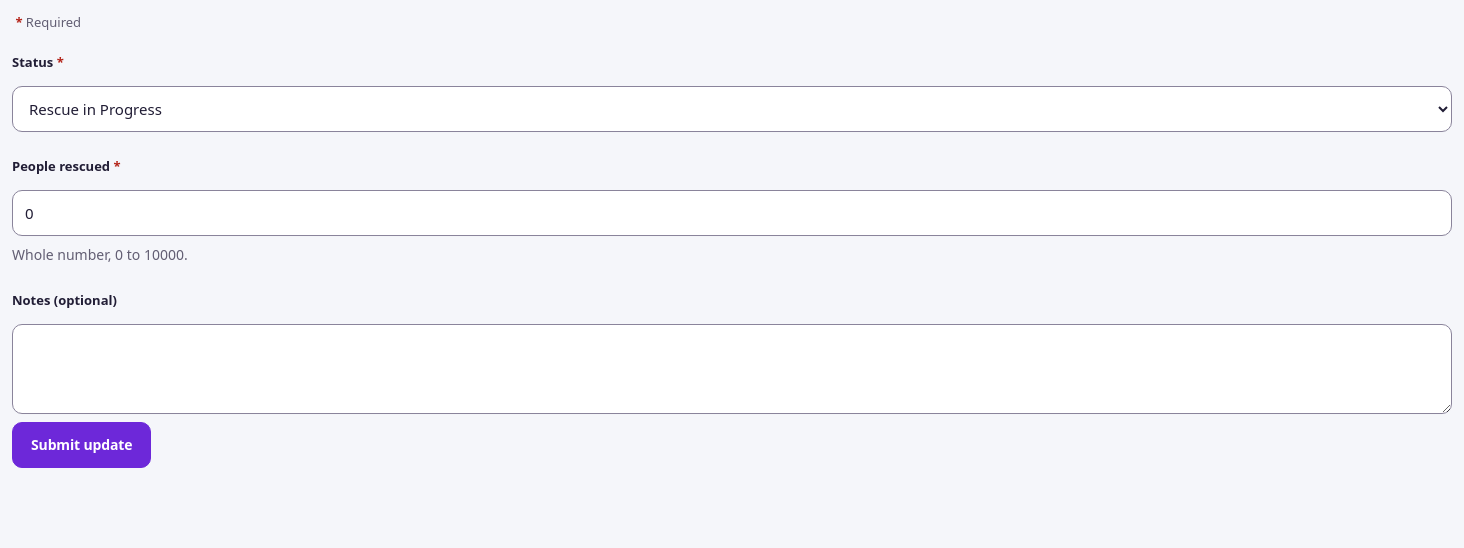
Scenario: OperationForm › a lost reply (network) says the update may be saved, keeps the entries, and does not blame the connection
This screenshot has width=1464, height=548.
Type "Family moved" into the text box labelled "Notes (optional)" at coordinates (732, 369), box [12, 324, 1452, 414]
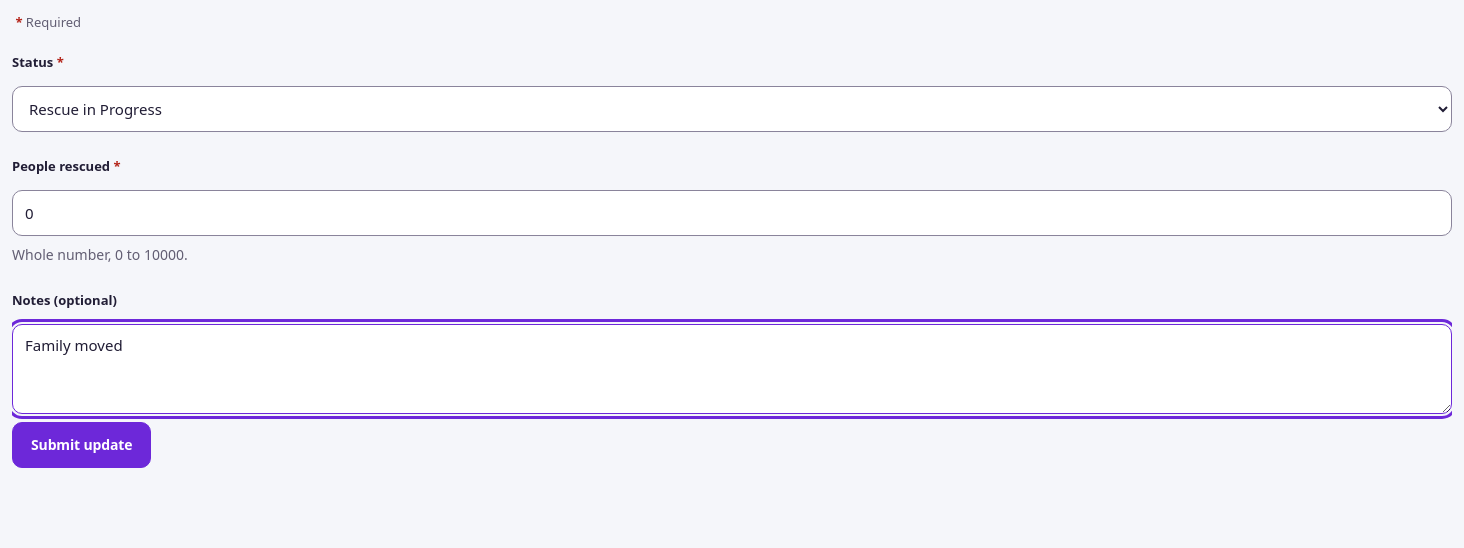
Click the button "Submit update" at coordinates (82, 445), box [12, 422, 151, 468]
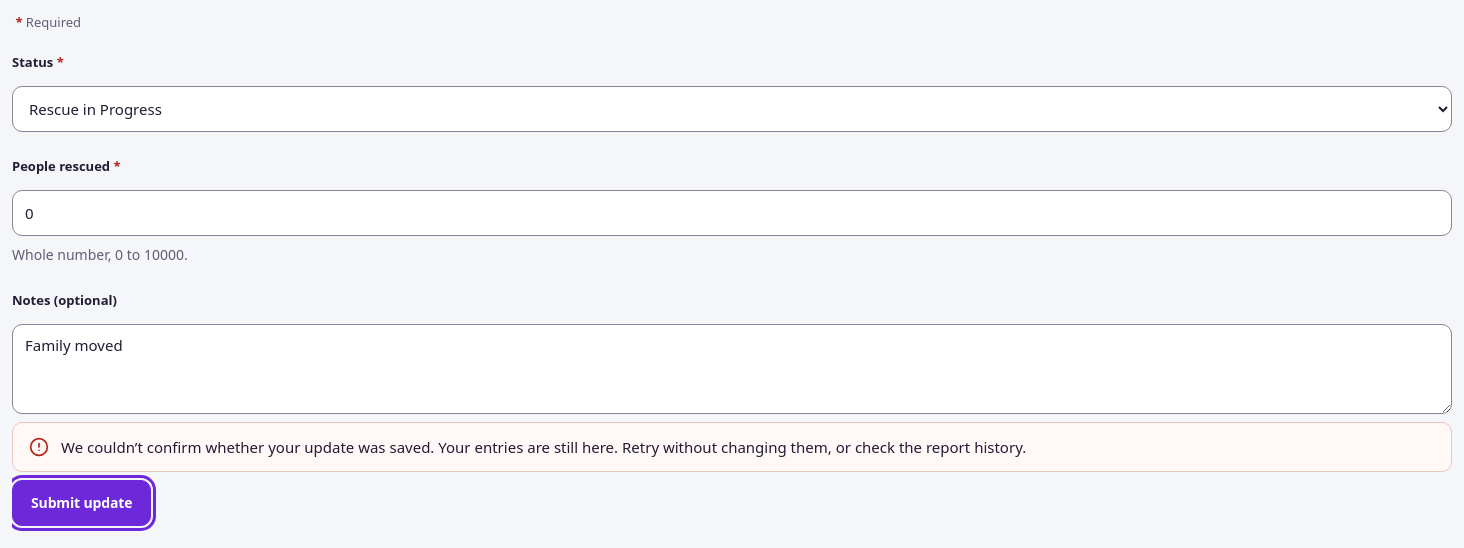
Expected: the message does not show "Network error", [12, 422, 1452, 472]
Result: the message shows "We couldn’t confirm whether your update was saved. Your entries are still here. Retry without changing them, or check the report history." at [12, 422, 1452, 472]
